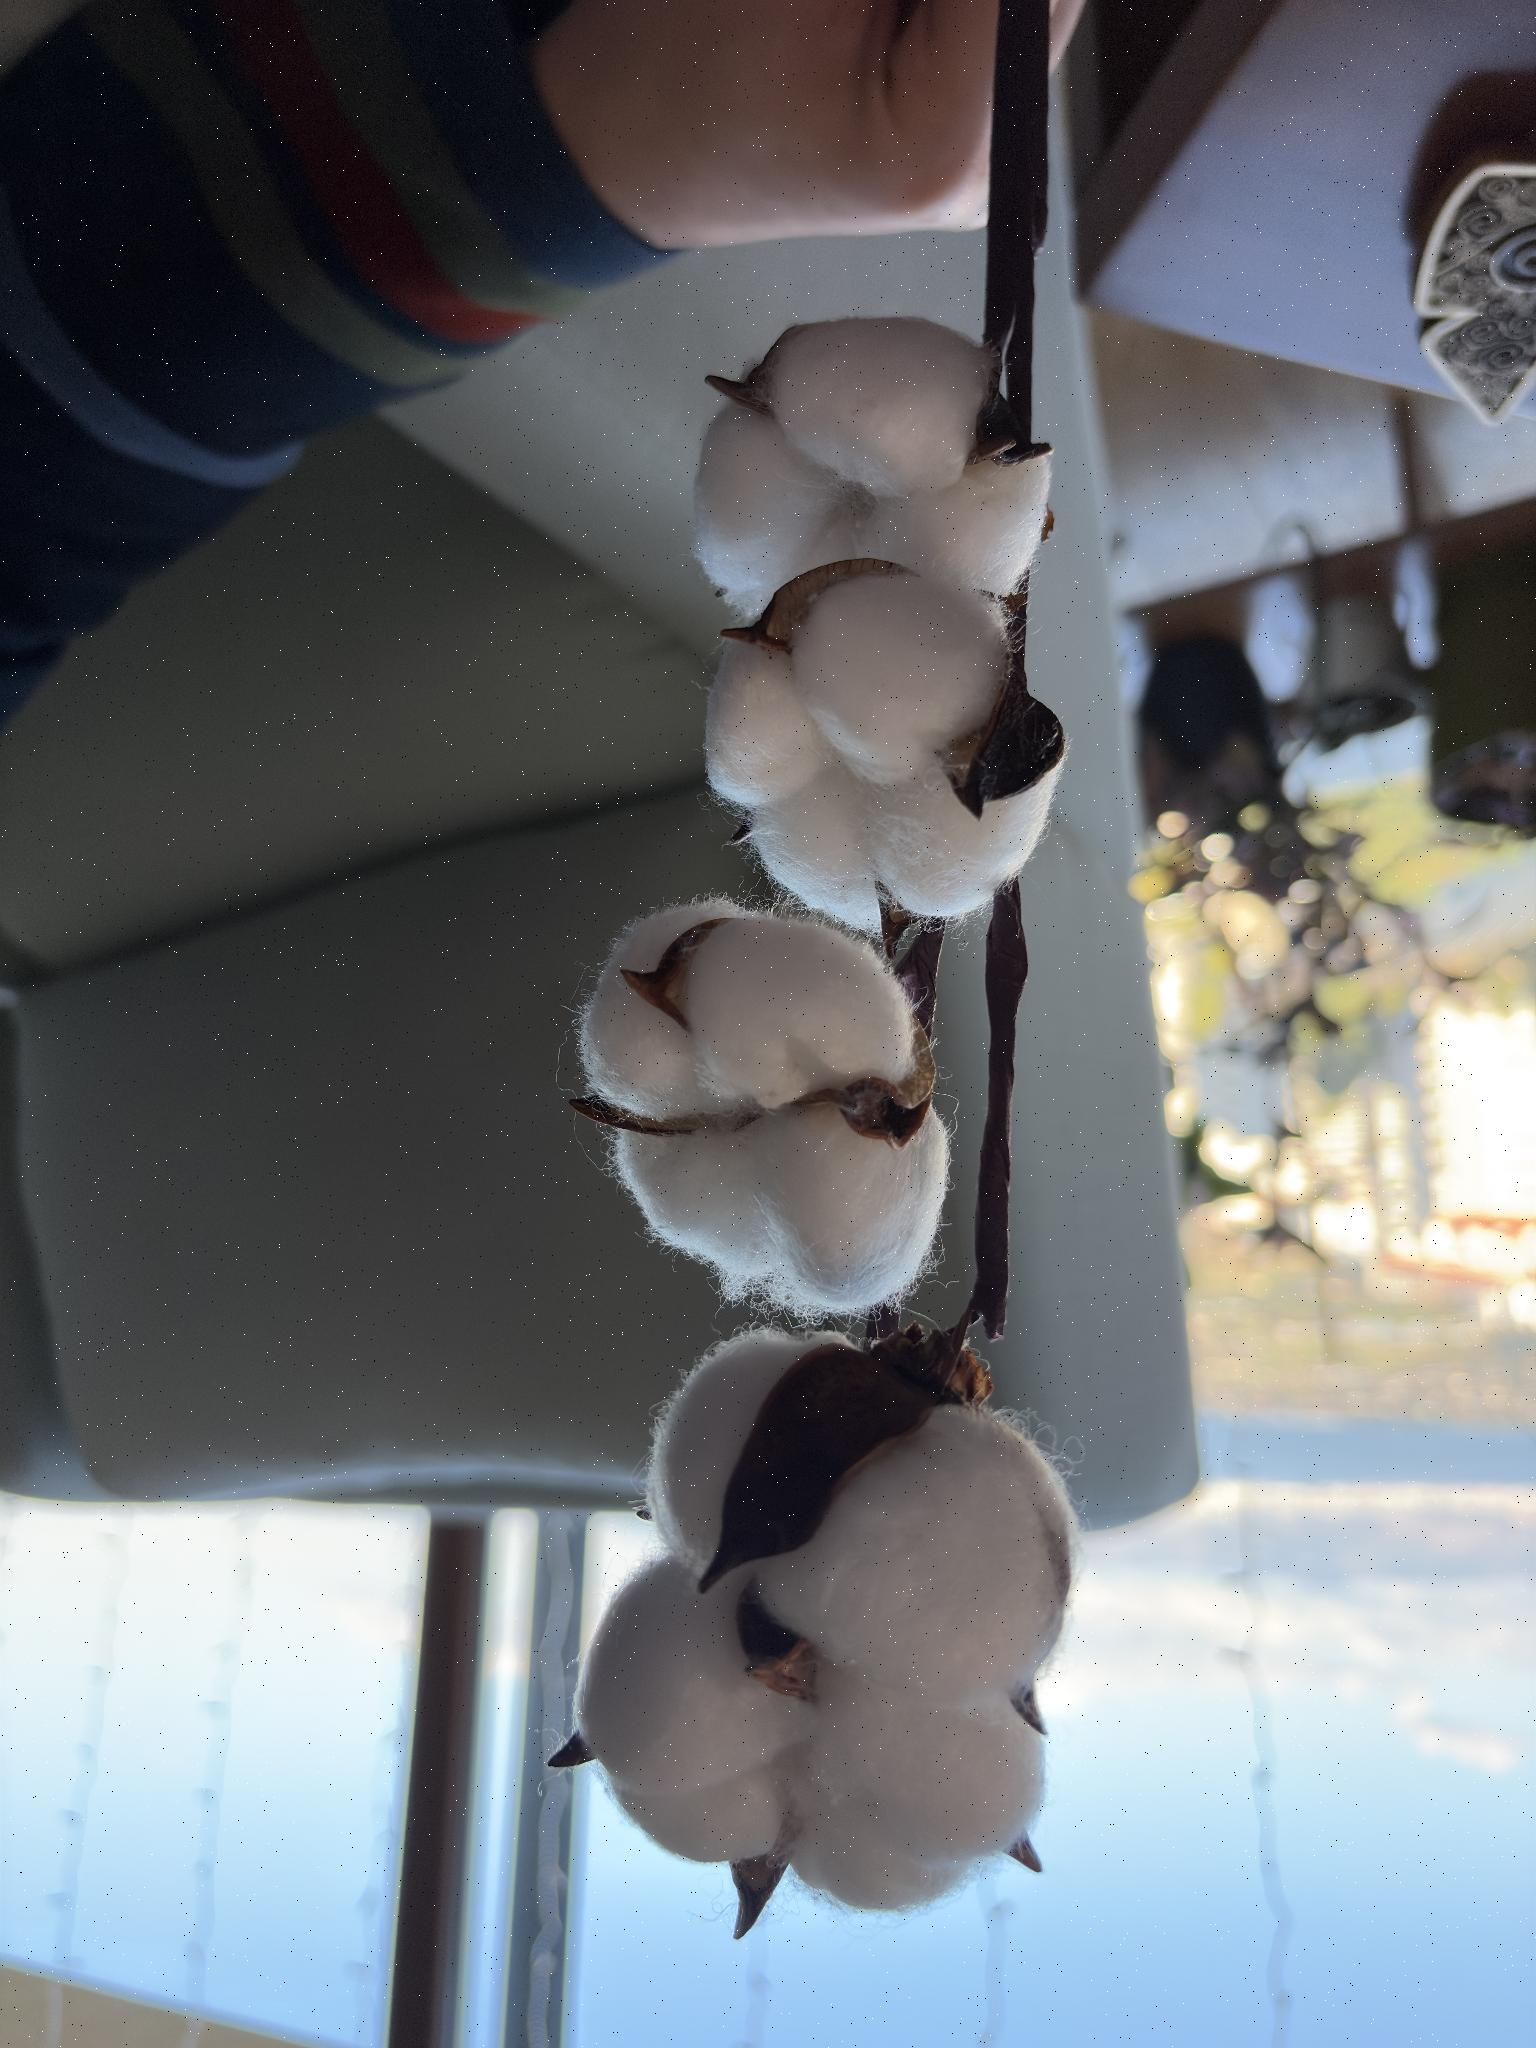cotton_boll: (757, 1408, 1075, 1708), (576, 1563, 812, 1795), (812, 1671, 1042, 1867), (682, 914, 916, 1108), (791, 574, 1002, 784), (753, 318, 995, 497), (741, 1106, 949, 1314), (647, 1332, 808, 1577), (694, 405, 845, 610), (579, 905, 723, 1118), (871, 766, 1062, 916), (613, 1121, 771, 1298), (855, 456, 1050, 595), (789, 1775, 971, 1913), (705, 642, 831, 810), (749, 768, 876, 929), (608, 1771, 781, 1863)
cotton_boll-cluster: (566, 1330, 1079, 1919), (576, 889, 958, 1322), (695, 555, 1065, 930), (689, 303, 1062, 611)
